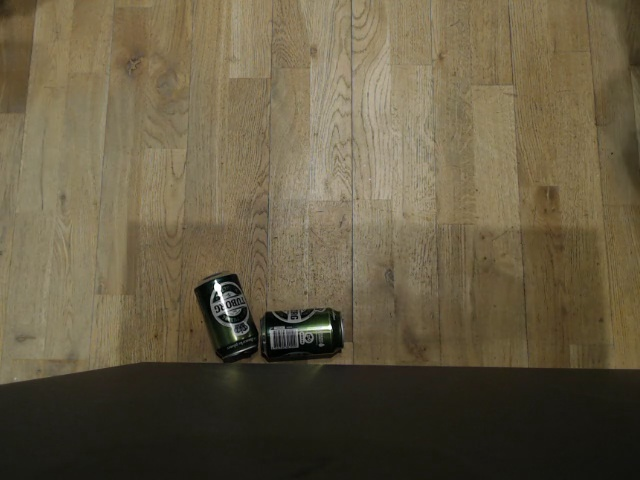beer: (196, 269, 257, 363), (260, 306, 344, 360)
